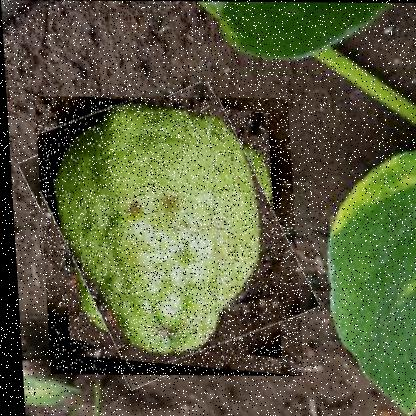guava: (31, 95, 298, 376)
